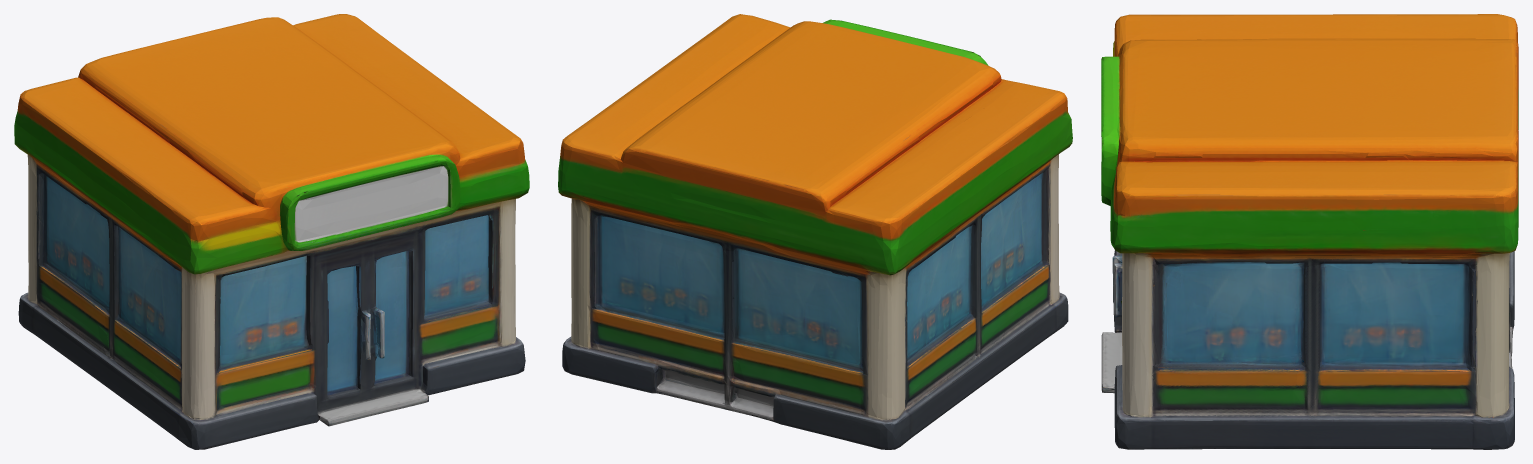
The model's file is convenience_store.glb.
3 views of the same model, side by side, from view 1: azimuth 30°, elevation 25°; view 2: azimuth 150°, elevation 25°; view 3: azimuth 270°, elevation 25° (orthographic). The views are drawn at different scales.
Parts seen in each view (by area): view 1: geometry_0; view 2: geometry_0; view 3: geometry_0.
Boxes of the visible parts, bbox=[...] form: geometry_0: bbox=[14, 14, 529, 449]; geometry_0: bbox=[558, 14, 1072, 449]; geometry_0: bbox=[1101, 14, 1518, 449].
Bounding box in the file's own units: 0.4916 × 0.3365 × 0.4689.
Materials: 1 (1 with a texture image).
